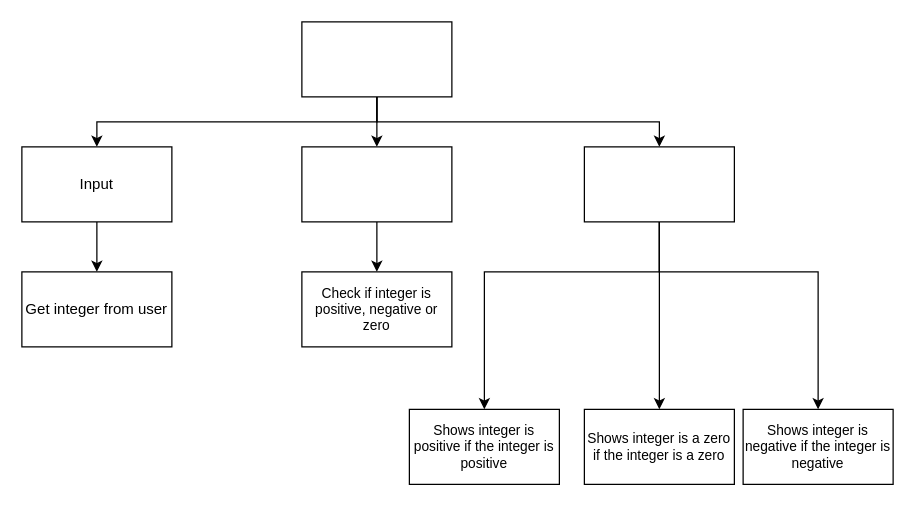
The diagram is 915 pixels wide and 506 high, and some of its shapes have lost their labels. Here are the shapes that lost their labels. From the top down, the centre of each, then its label:
At [376,59]: "Positive/Negative/0 Program".
At [376,184]: "Process".
At [658,184]: "Output".
